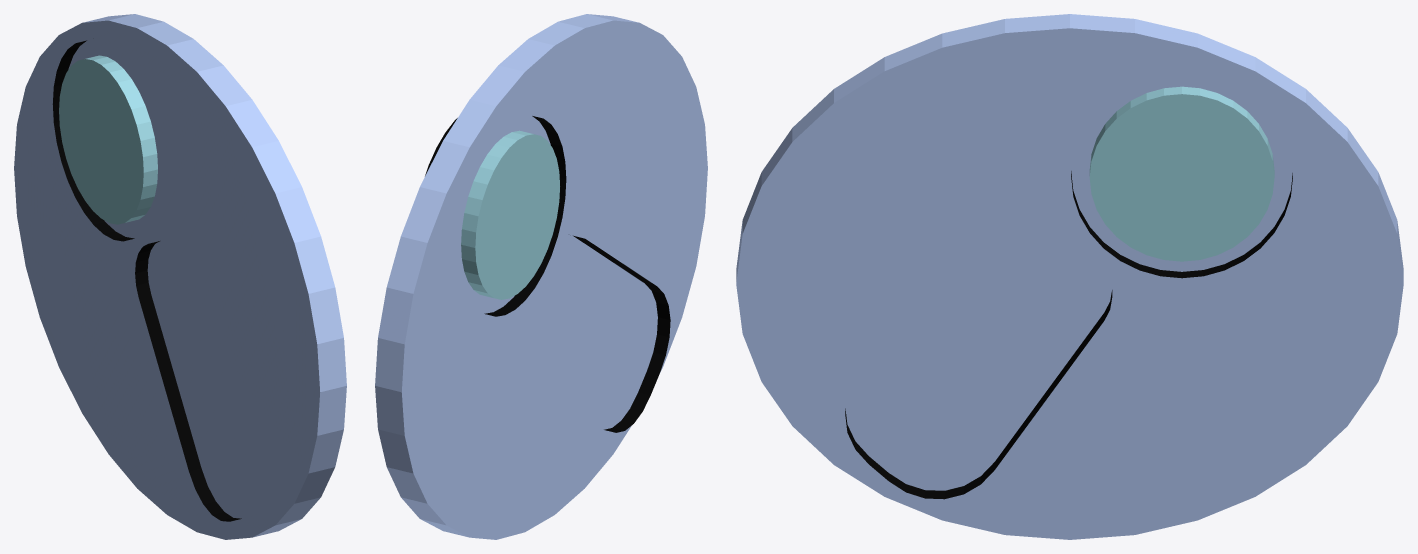
File: Inspeccion.glb
The picture shows the model from 3 angles, left to right: view 1: azimuth 30°, elevation 25°; view 2: azimuth 150°, elevation 25°; view 3: azimuth 270°, elevation 25°; orthographic projection. The views are drawn at different scales.
Visible parts, largest first — view 1: Circle, Exterior, Cube, Exterior.001; view 2: Circle, Exterior, Cube, Exterior.001; view 3: Circle, Exterior, Cube, Exterior.001.
Boxes of the visible parts, x1=… form: Circle: x1=14, y1=14, x2=346, y2=539; Exterior: x1=59, y1=55, x2=157, y2=224; Cube: x1=135, y1=241, x2=241, y2=521; Exterior.001: x1=52, y1=40, x2=134, y2=241; Circle: x1=375, y1=14, x2=707, y2=539; Exterior: x1=461, y1=130, x2=559, y2=299; Cube: x1=573, y1=235, x2=670, y2=432; Exterior.001: x1=425, y1=116, x2=566, y2=316; Circle: x1=736, y1=14, x2=1403, y2=539; Exterior: x1=1089, y1=86, x2=1274, y2=261; Cube: x1=845, y1=290, x2=1112, y2=499; Exterior.001: x1=1071, y1=171, x2=1292, y2=278.
Size of the model in its own units: 0.3876 by 3.06 by 3.61.
